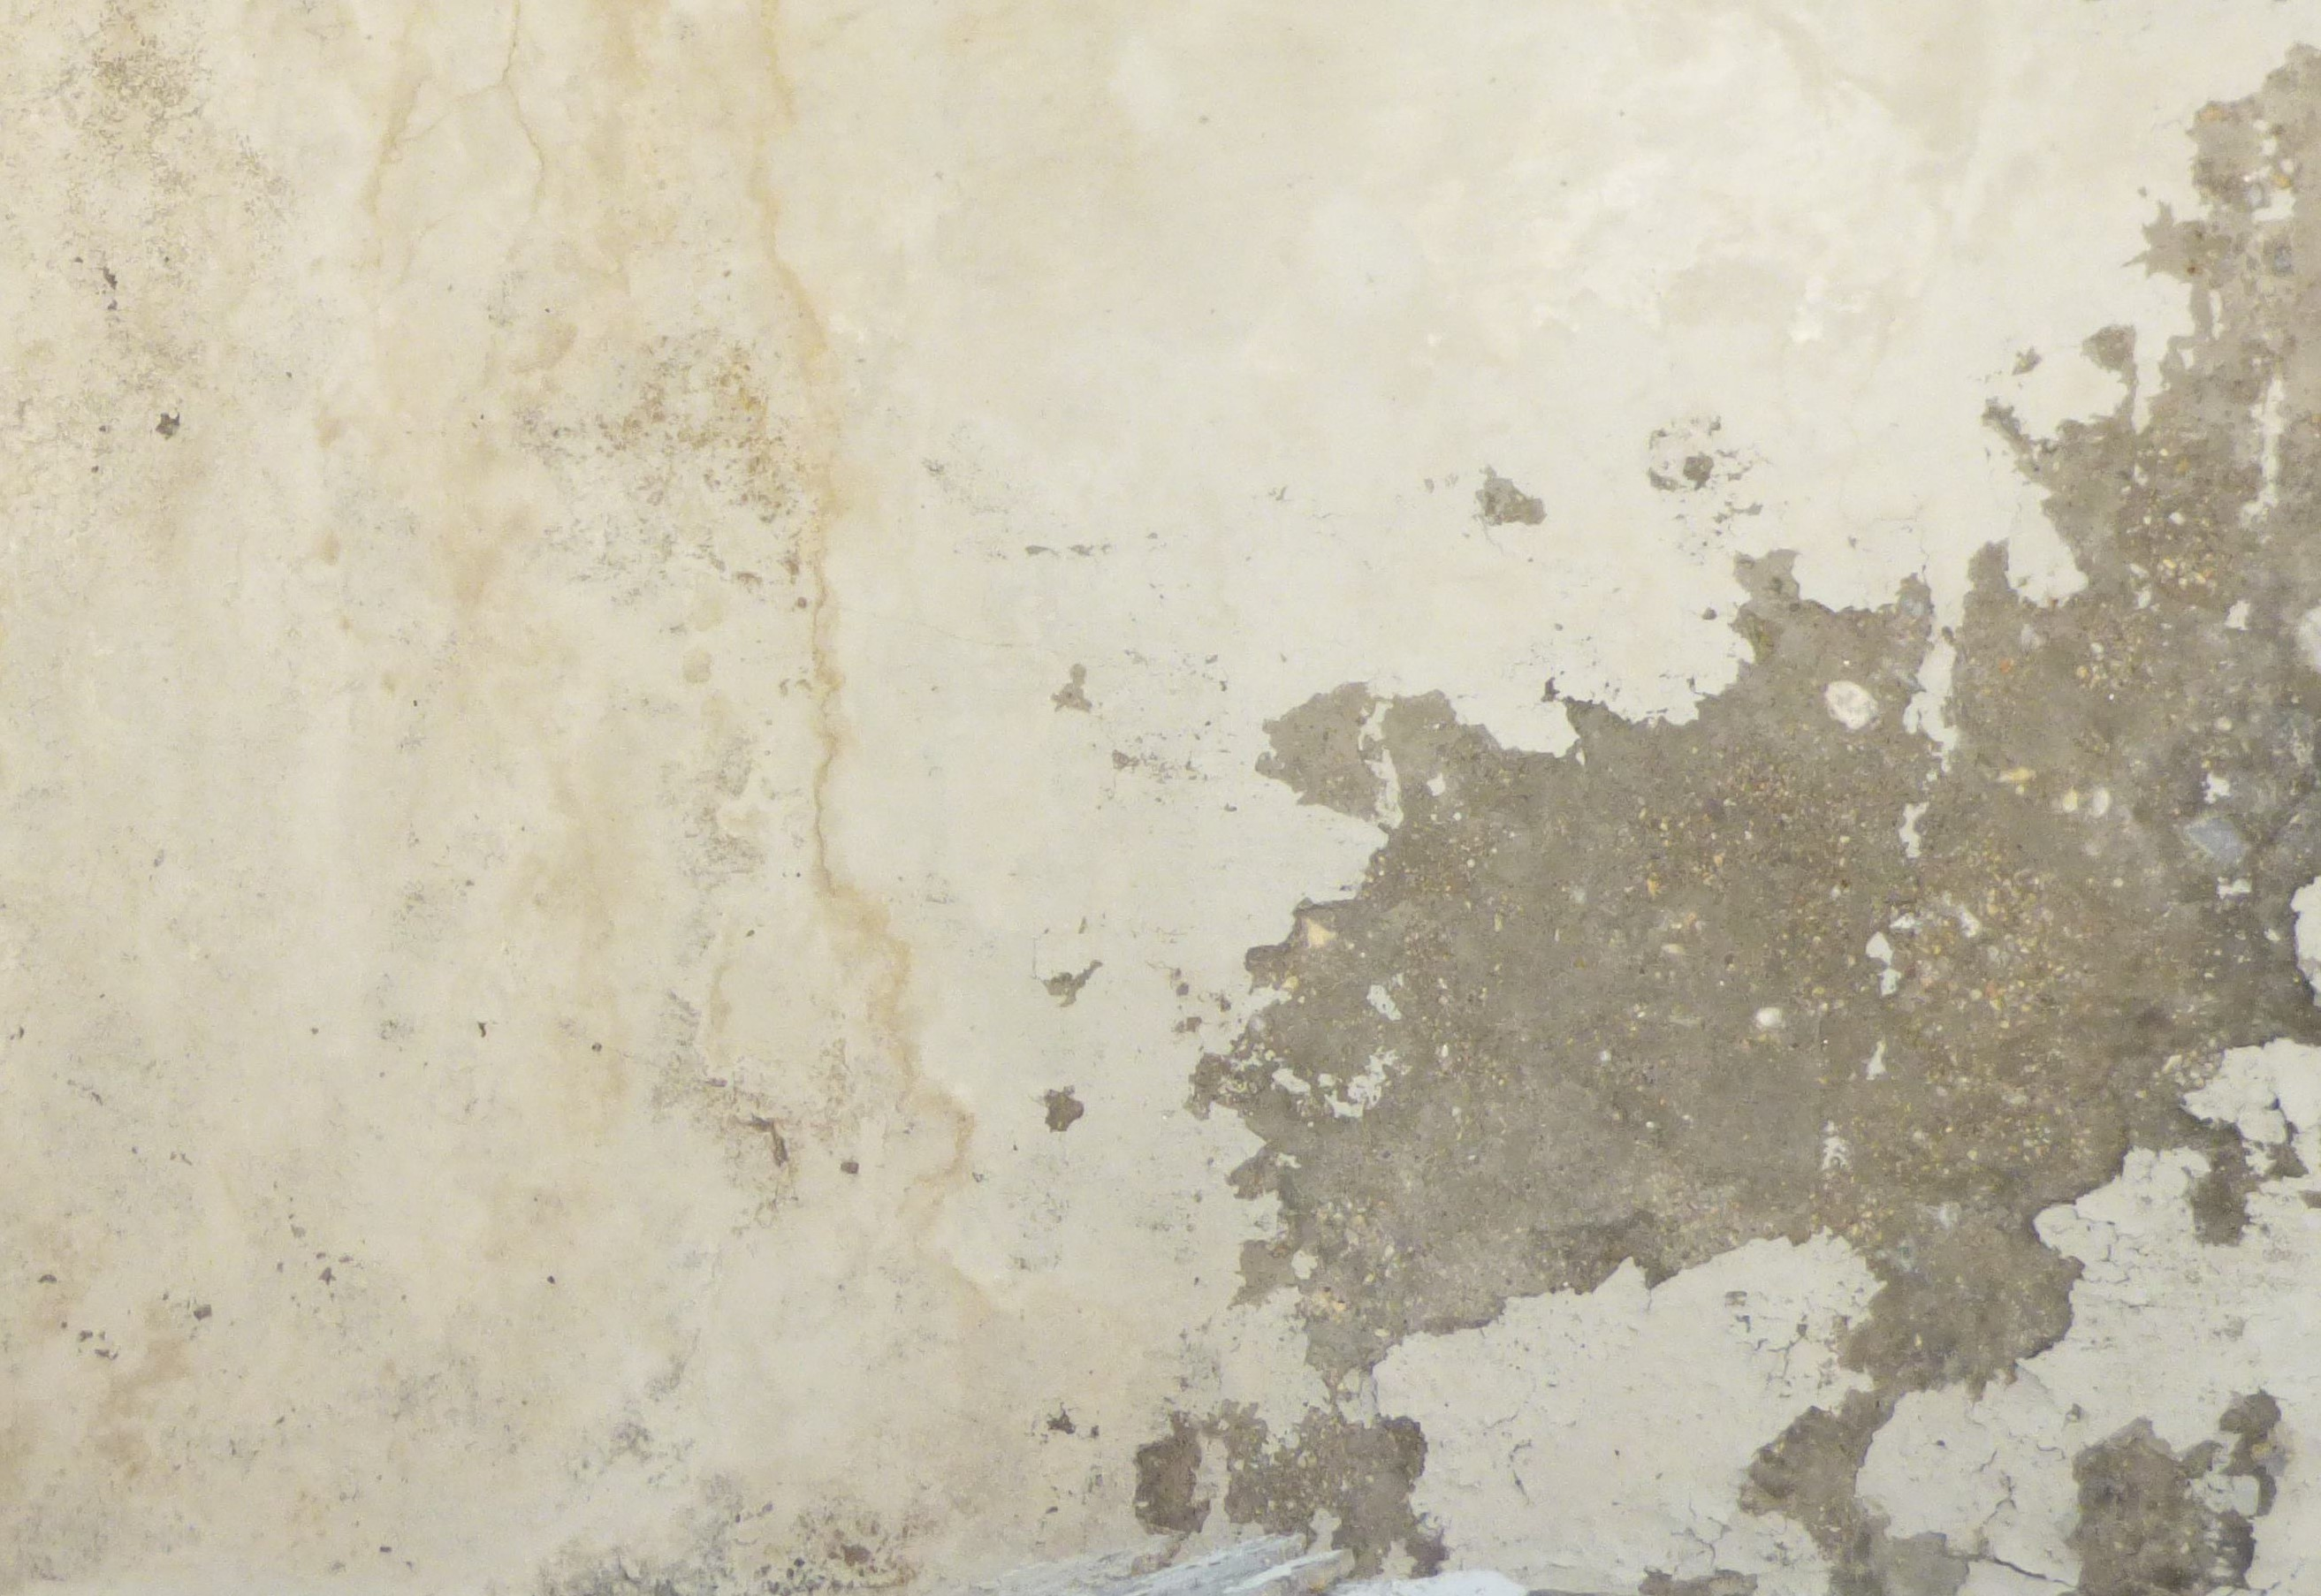Spalling: (1039, 536, 2321, 1596), (1979, 41, 2321, 534), (1647, 414, 1765, 524), (1474, 460, 1545, 533)
